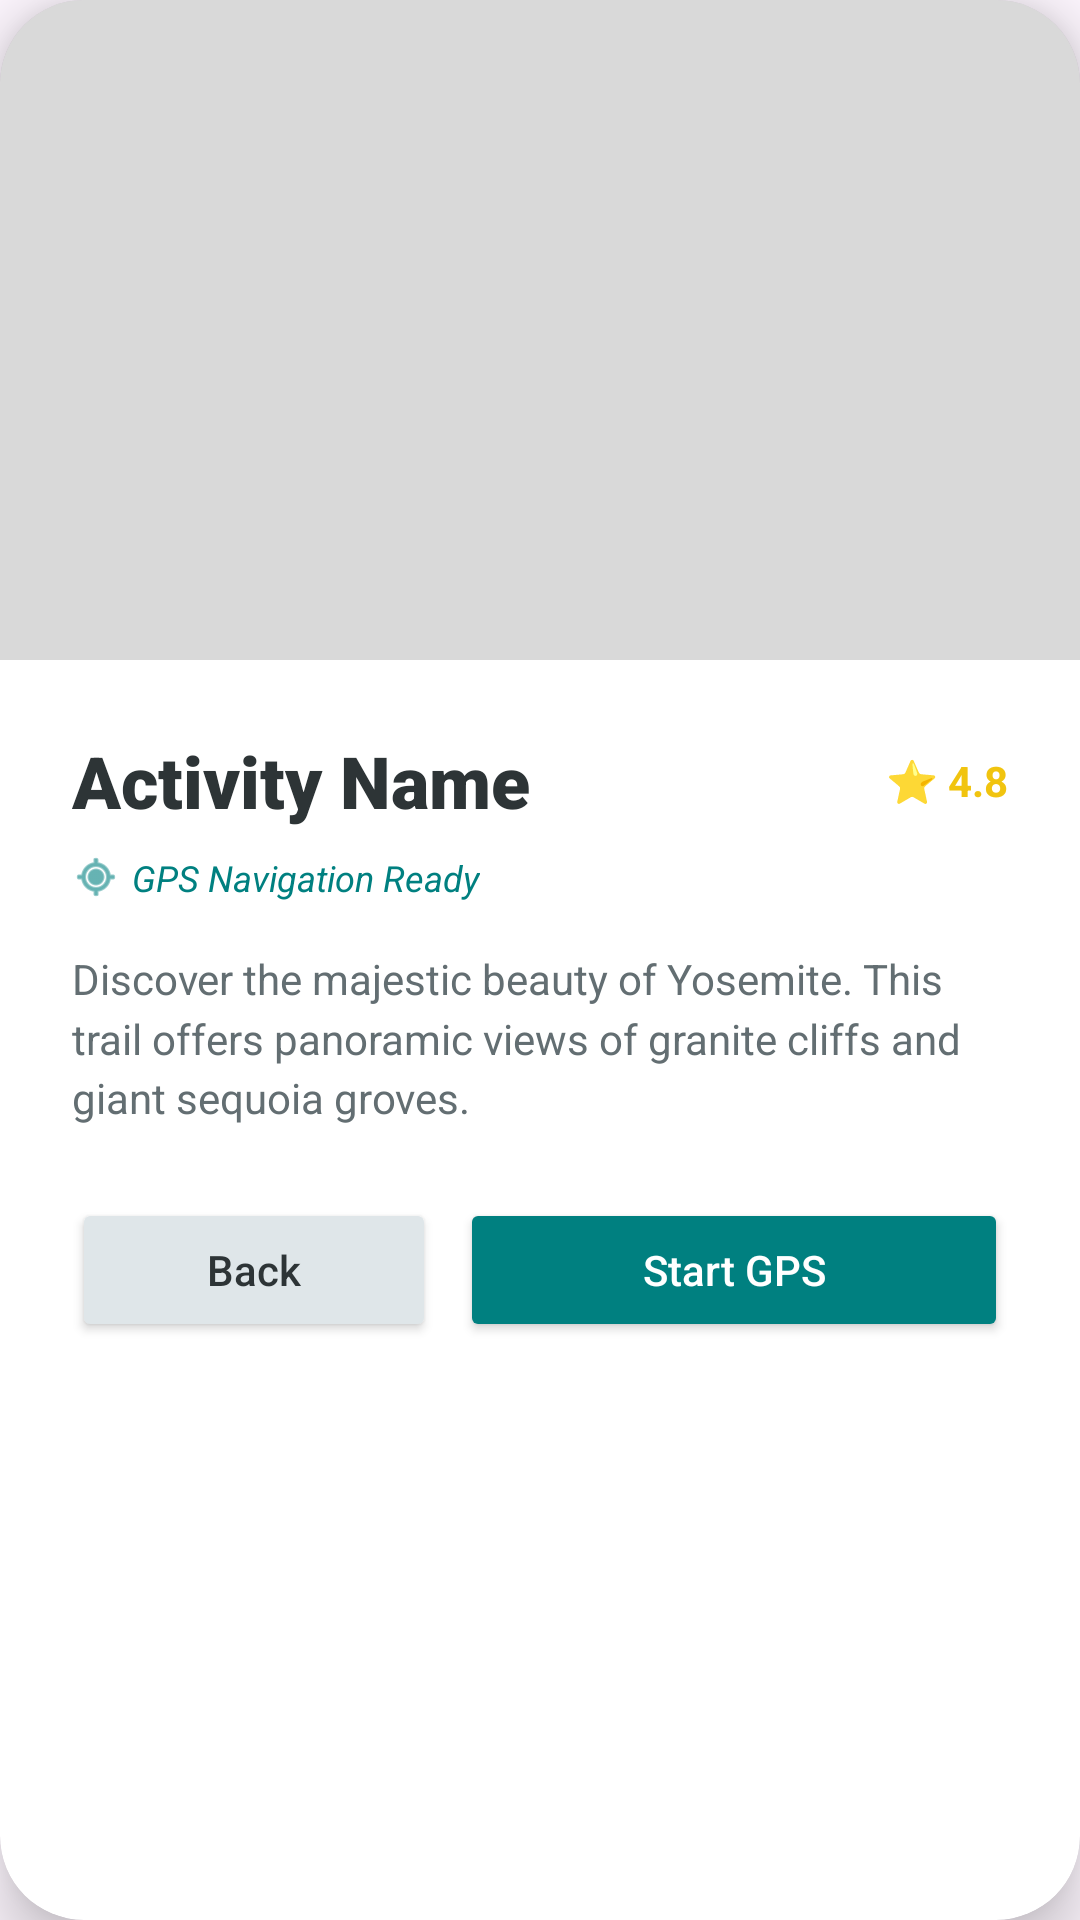

Icon bounding boxes for this 1080x1920 phone screenshot, format (x1, y1, x2, y2):
mylocation: (77, 858, 115, 896)
